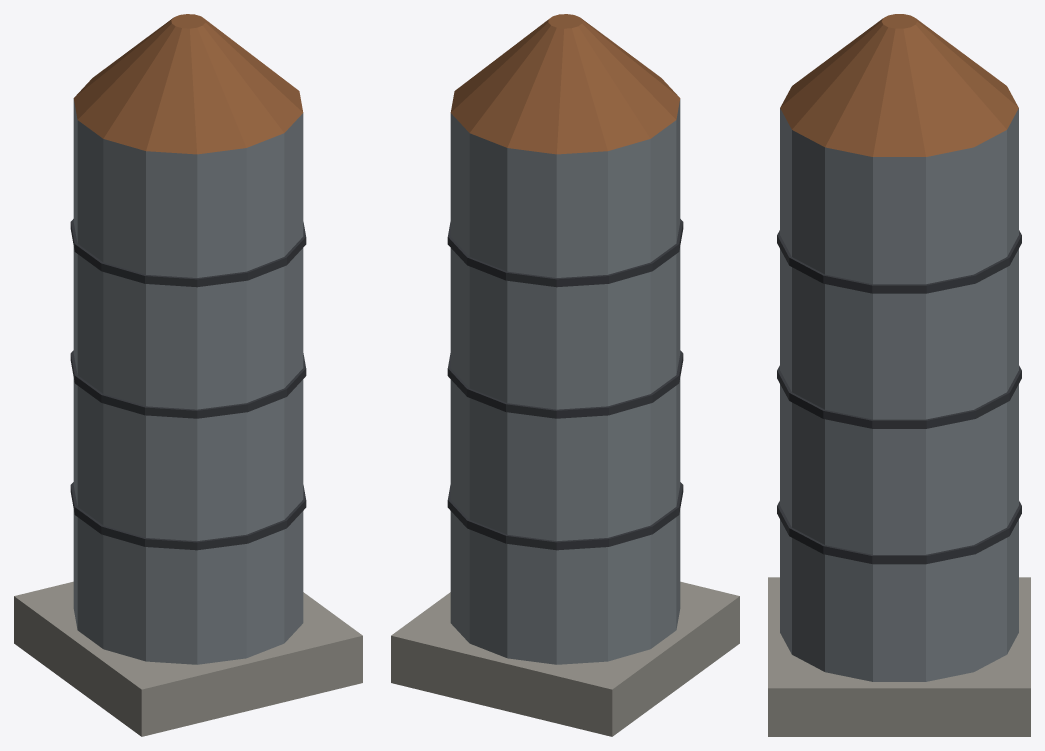
The model's file is silo.glb.
The picture shows the model from 3 angles, left to right: view 1: azimuth 30°, elevation 25°; view 2: azimuth 150°, elevation 25°; view 3: azimuth 270°, elevation 25°; orthographic projection. The views are drawn at different scales.
Parts seen in each view (by area): view 1: silo; view 2: silo; view 3: silo.
Boxes of the visible parts, x1,y1,x2,y2 form: silo: [14, 14, 362, 736]; silo: [391, 14, 739, 736]; silo: [768, 14, 1030, 736].
Bounding box in the file's own units: 4.4 × 12.2 × 4.4.
